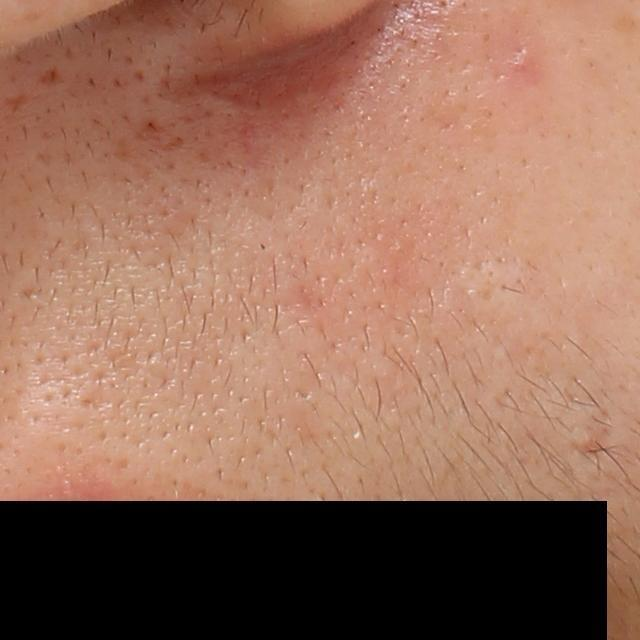atrophic_scar: (34, 63, 65, 89), (3, 93, 32, 110)
hypertrophic_scar: (187, 89, 246, 116)
